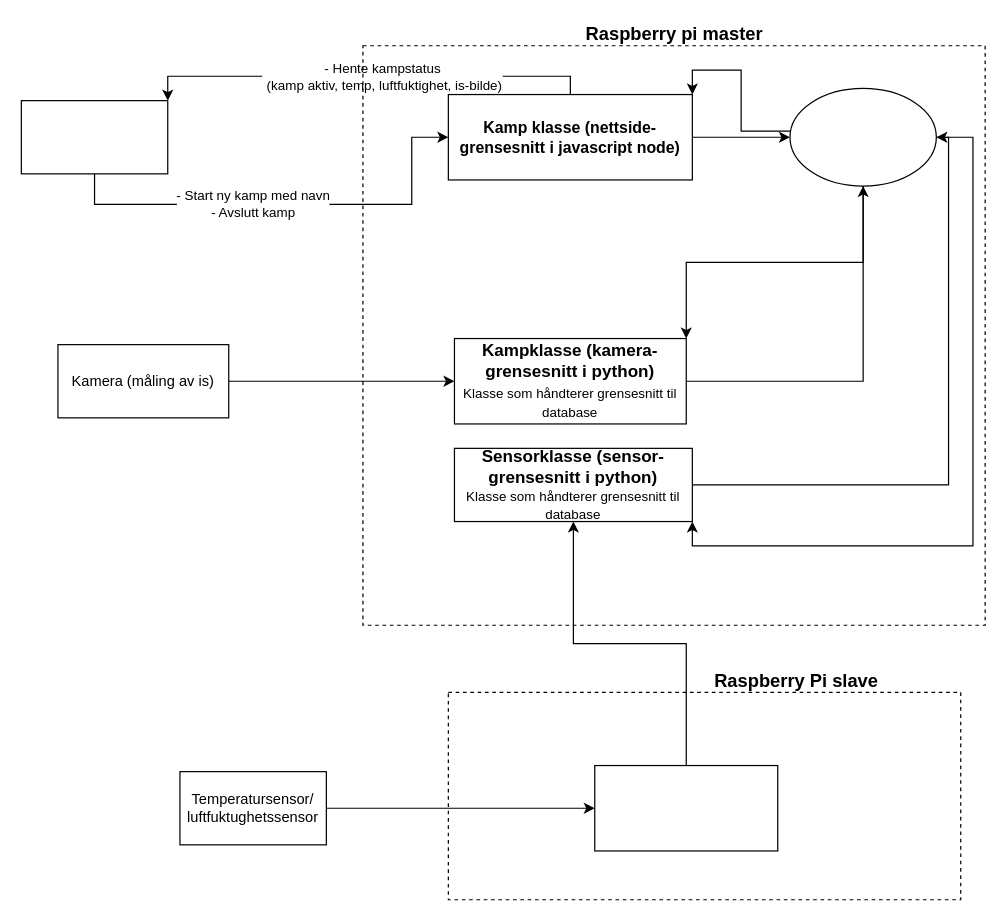
Image size: 1007x921. Some labels were removed from this diagram. Here are the shapes that lost their labels. From the top down, the box of each, then its label:
(20, 99, 168, 174): Nettside
(789, 87, 936, 186): Database
(594, 764, 778, 851): Kode for å innhente data fra sensor. Sende data til annen rpi med bluetooth
